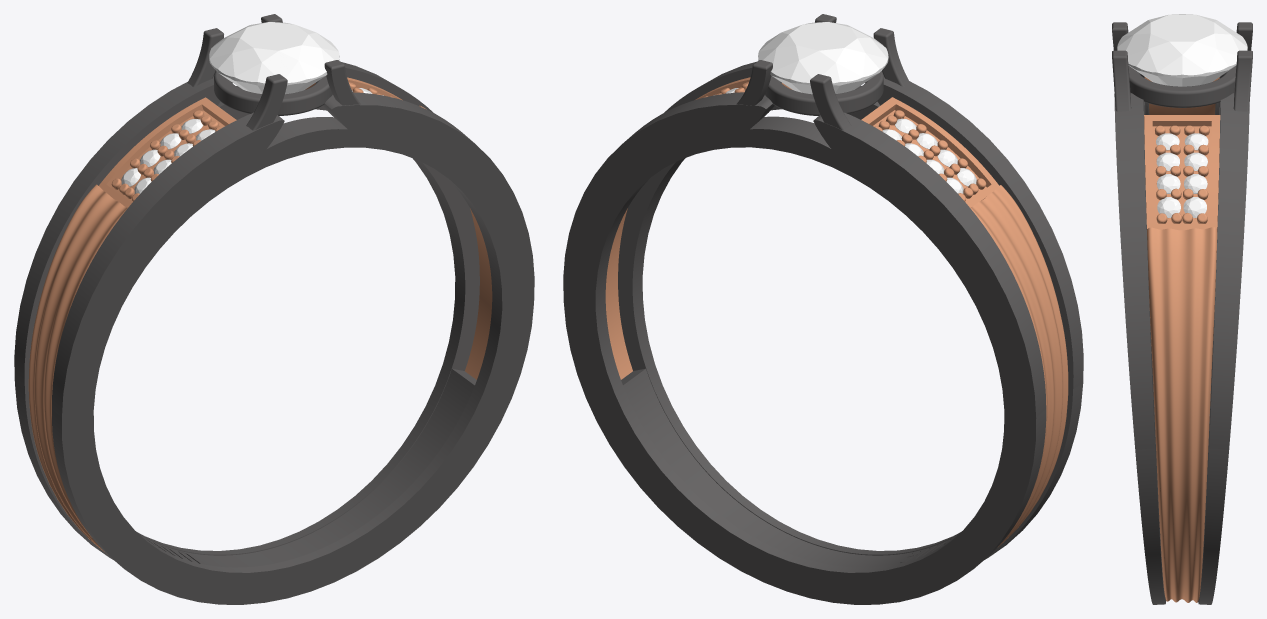
Rendered from glb.glb.
3 views of the same model, side by side, from view 1: azimuth 30°, elevation 25°; view 2: azimuth 150°, elevation 25°; view 3: azimuth 270°, elevation 25° (orthographic).
Parts seen in each view (by area): view 1: /GR1-RD-70-NN-WG-18-20-1.3dm, Diamond_Round; view 2: /GR1-RD-70-NN-WG-18-20-1.3dm, Diamond_Round; view 3: /GR1-RD-70-NN-WG-18-20-1.3dm, Diamond_Round (×9).
Part boxes in pixels (x1,y1,x2,y2): /GR1-RD-70-NN-WG-18-20-1.3dm: (14, 14, 534, 604); Diamond_Round: (209, 22, 339, 94); /GR1-RD-70-NN-WG-18-20-1.3dm: (563, 14, 1083, 604); Diamond_Round: (758, 22, 888, 94); /GR1-RD-70-NN-WG-18-20-1.3dm: (1112, 22, 1252, 604); Diamond_Round (×9): (1117, 14, 1247, 218).
Size of the model in its own units: 2.63 by 2.94 by 0.68.
